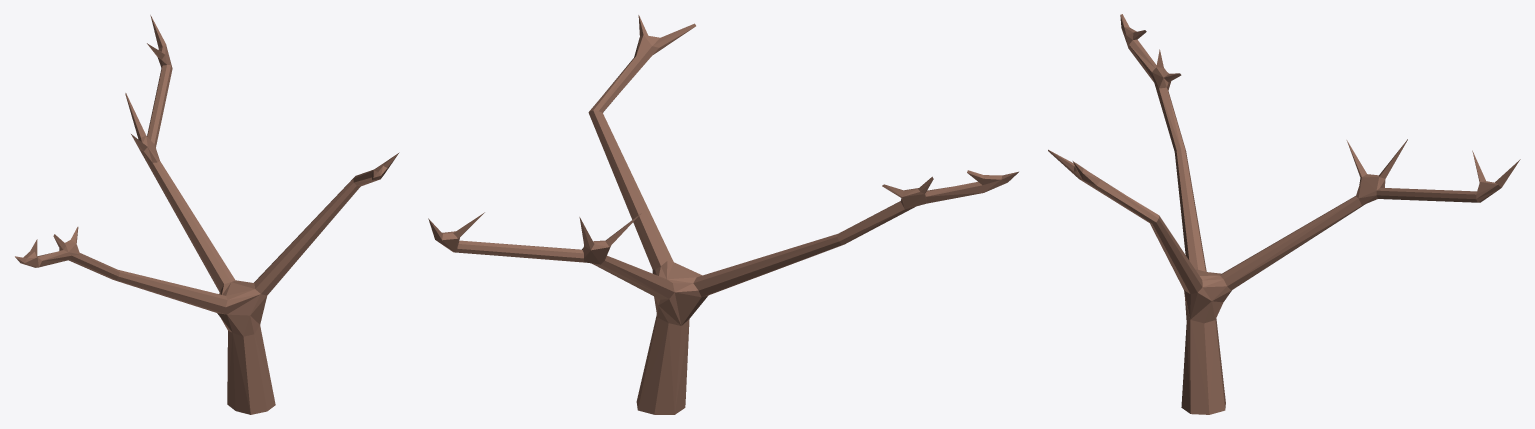
File: arbolQuemado1.fbx
3 renders of one model, left to right at view 1: azimuth 30°, elevation 25°; view 2: azimuth 150°, elevation 25°; view 3: azimuth 270°, elevation 25°, orthographic. The views are drawn at different scales.
Parts seen in each view (by area): view 1: Cube; view 2: Cube; view 3: Cube.
Boxes of the visible parts, box(x1,y1,x2,y2) form: Cube: box(15, 15, 399, 414); Cube: box(428, 15, 1018, 414); Cube: box(1048, 14, 1520, 414).
Bounding box in the file's own units: 776 × 567 × 847.
